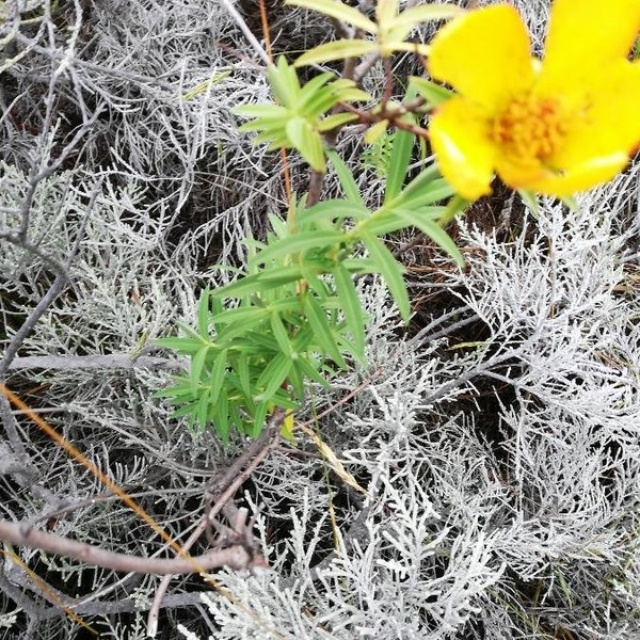obstacle: (205, 1, 597, 420)
